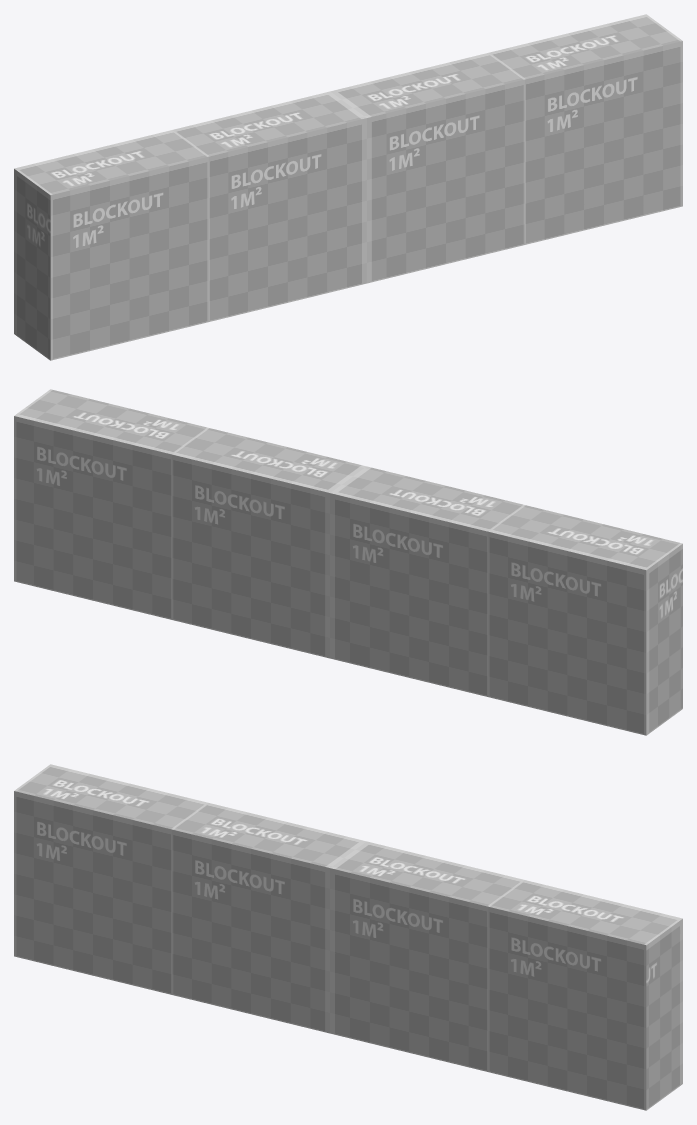
Rendered from BlockoutEdgeHalfThick04.fbx.
3 renders of one model, top to bottom at view 1: azimuth 30°, elevation 25°; view 2: azimuth 150°, elevation 25°; view 3: azimuth 330°, elevation 25°, orthographic.
Parts seen in each view (by area): view 1: BlockoutEdgeHalfThick04; view 2: BlockoutEdgeHalfThick04; view 3: BlockoutEdgeHalfThick04.
Boxes of the visible parts, x1=… form: BlockoutEdgeHalfThick04: x1=14, y1=14, x2=682, y2=360; BlockoutEdgeHalfThick04: x1=14, y1=389, x2=682, y2=735; BlockoutEdgeHalfThick04: x1=14, y1=764, x2=682, y2=1110.
Bounding box in the file's own units: 400 × 100 × 40.
